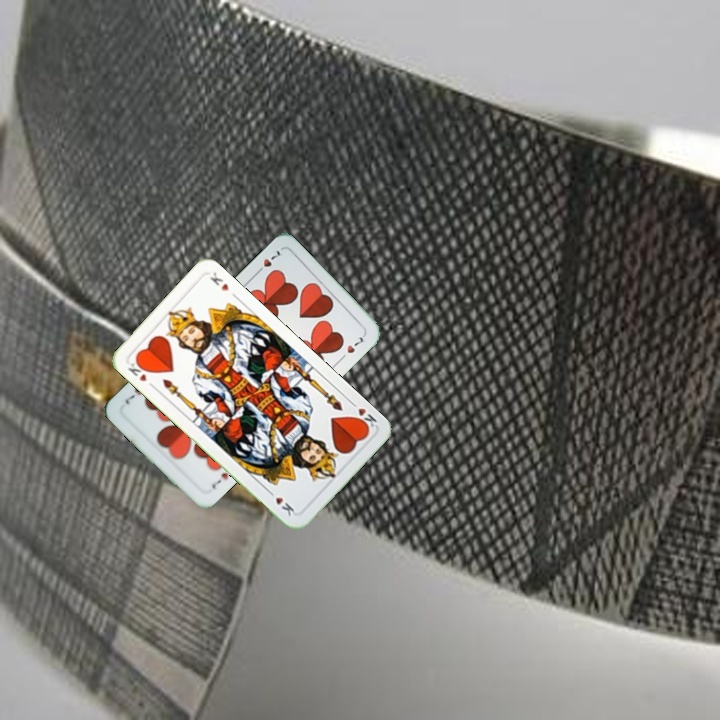H7: (251, 246, 283, 278), (207, 468, 231, 492)
HK: (124, 356, 158, 391), (346, 397, 379, 432)
